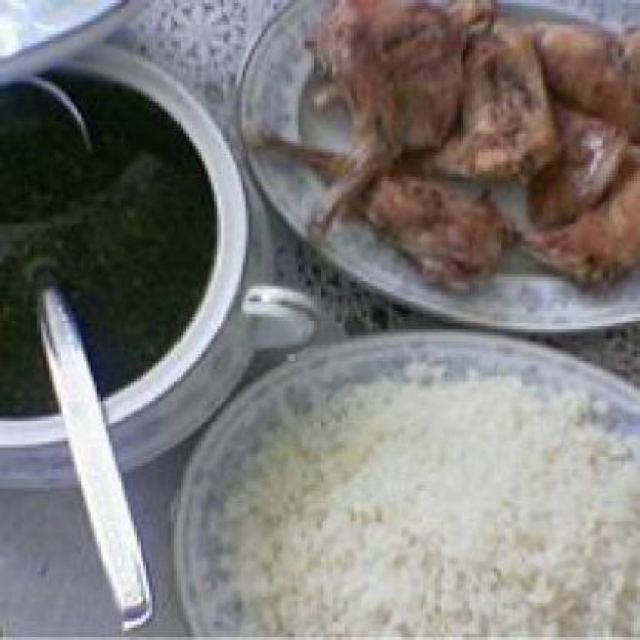chicken wings: (257, 122, 528, 289)
fried rice: (214, 341, 634, 637)
